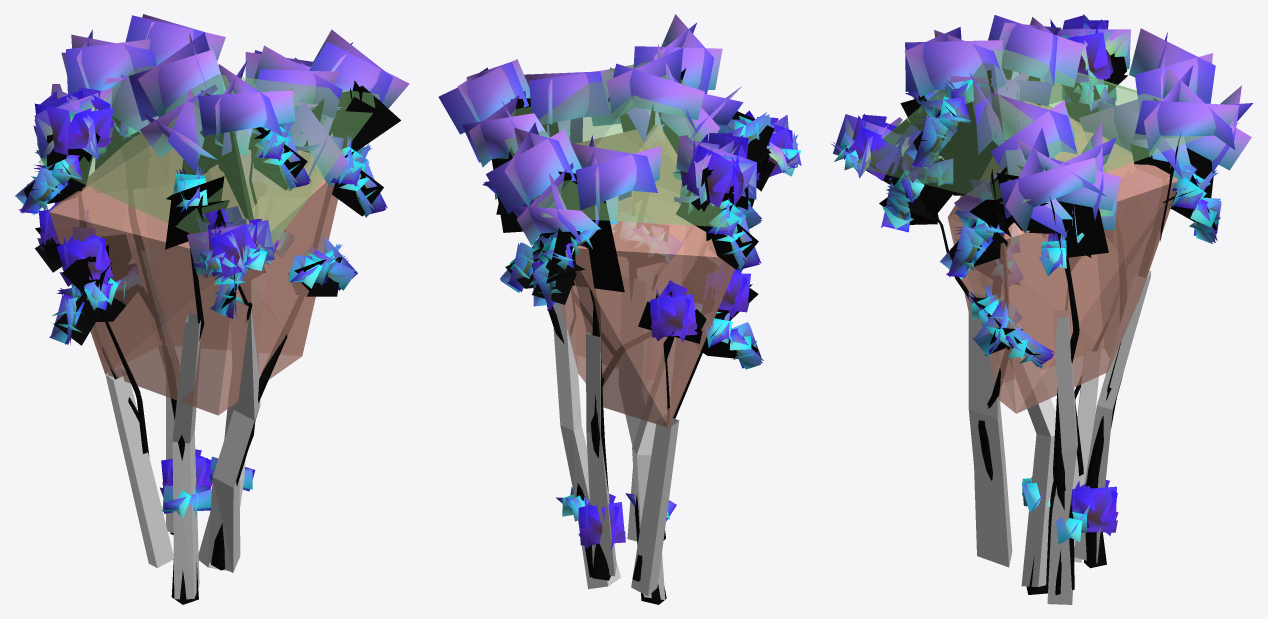
The model's file is cork_oak_filler_large.dae.
3 renders of one model, left to right at view 1: azimuth 30°, elevation 25°; view 2: azimuth 150°, elevation 25°; view 3: azimuth 270°, elevation 25°, orthographic. The views are drawn at different scales.
Parts seen in each view (by area): view 1: Colmesh-1, cork_oak_filler_large_a2000, cork_oak_filler_large_a430; view 2: cork_oak_filler_large_a2000, Colmesh-1, cork_oak_filler_large_a430; view 3: cork_oak_filler_large_a430, Colmesh-1, cork_oak_filler_large_a2000.
Part boxes in pixels (box(x1,y1,x2,y2)): Colmesh-1: box(38, 66, 386, 599); cork_oak_filler_large_a2000: box(14, 14, 409, 604); cork_oak_filler_large_a430: box(16, 22, 400, 604); cork_oak_filler_large_a2000: box(438, 23, 800, 604); Colmesh-1: box(504, 61, 735, 599); cork_oak_filler_large_a430: box(462, 14, 801, 600); cork_oak_filler_large_a430: box(833, 15, 1253, 594); Colmesh-1: box(851, 49, 1239, 604); cork_oak_filler_large_a2000: box(831, 14, 1241, 595).
Bounding box in the file's own units: 8.7 × 8.96 × 13.42.
